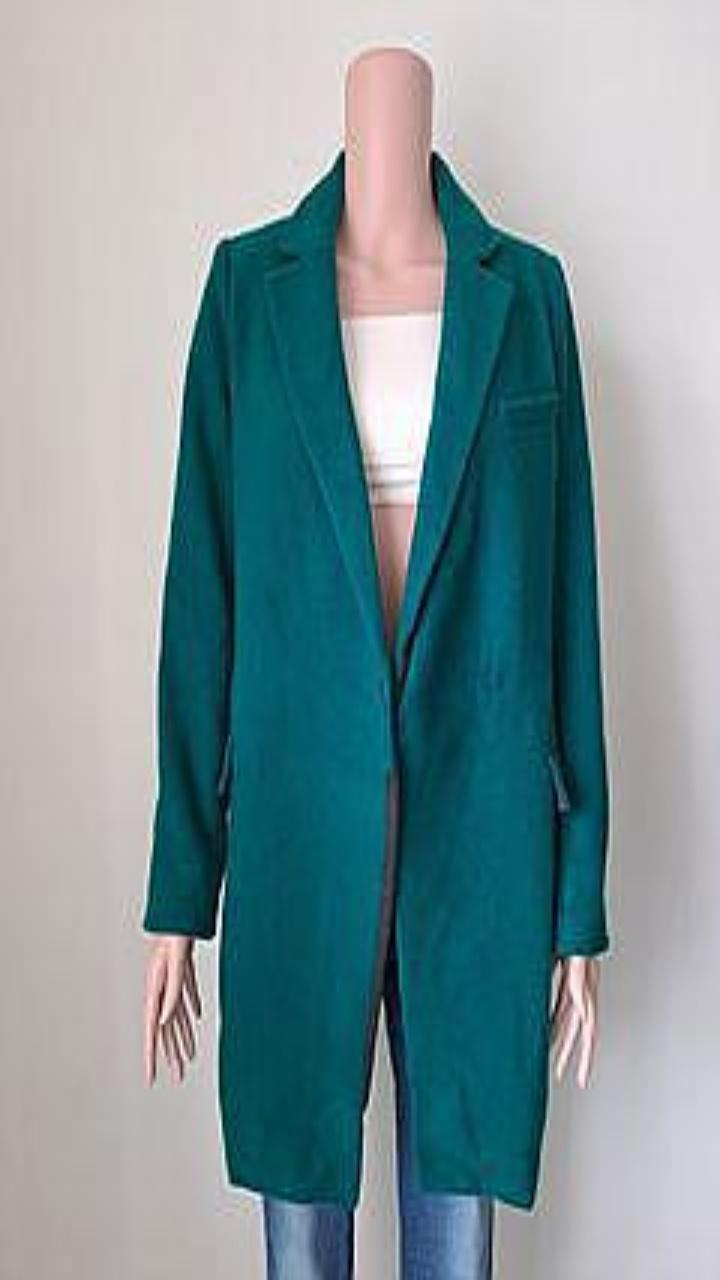Coat: (144, 150, 608, 1207)
Jeans: (383, 934, 493, 1279)
